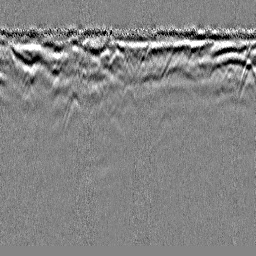cavity: (120, 83, 137, 106)
